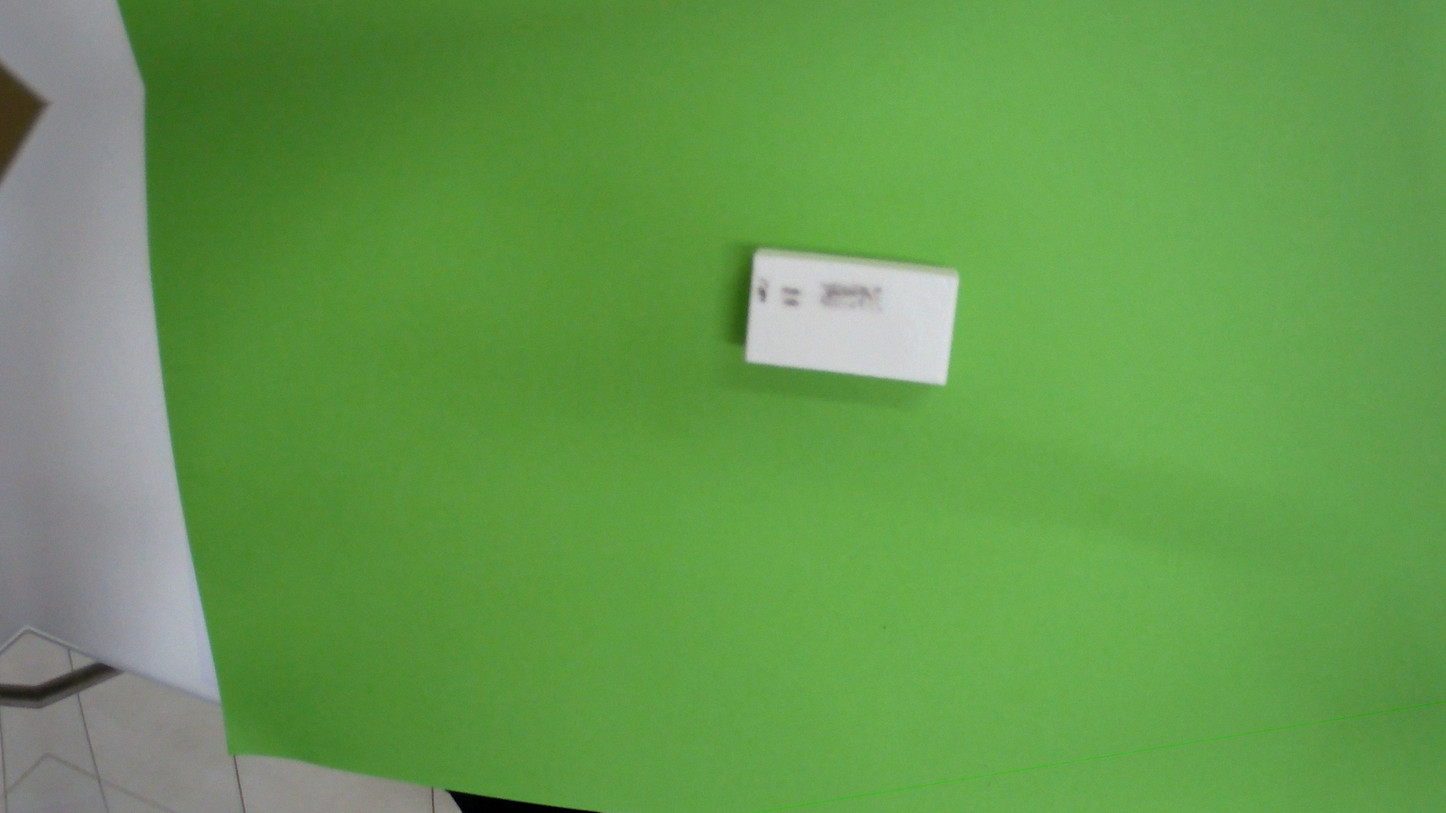gom: (715, 213, 976, 418)
